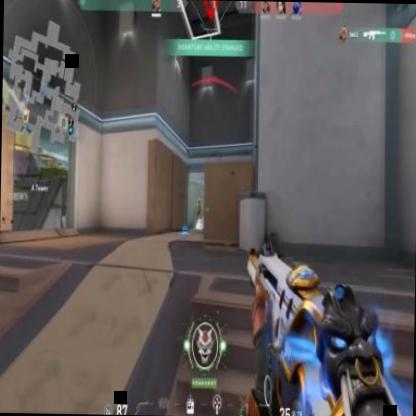enemy: (195, 195, 201, 226)
enemy_head: (197, 197, 200, 203)
